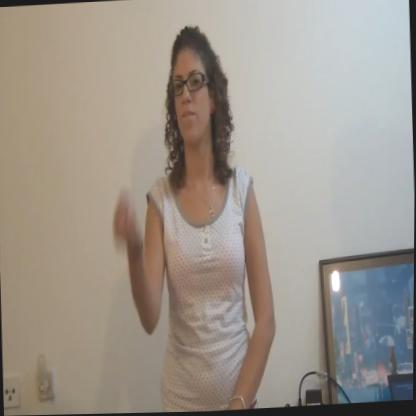Food: (107, 24, 283, 414)
